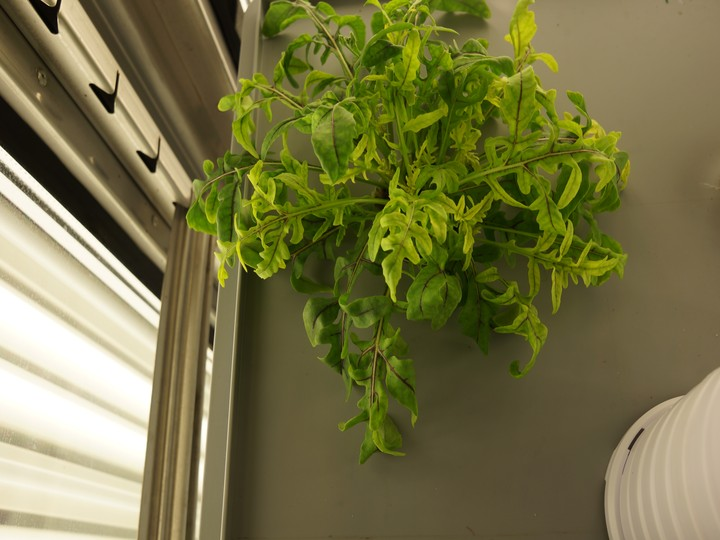roquette_sauvage_red_veined: (163, 2, 670, 487)
